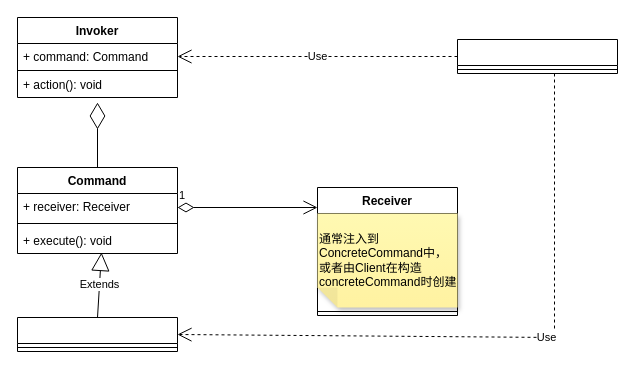
The diagram is 635 pixels wide and 369 high, and some of its shapes have lost their labels. The centre of each missing label's shape, as x and y in pixels:
Client: pixel 537 56
ConcreteCommand: pixel 97 334
